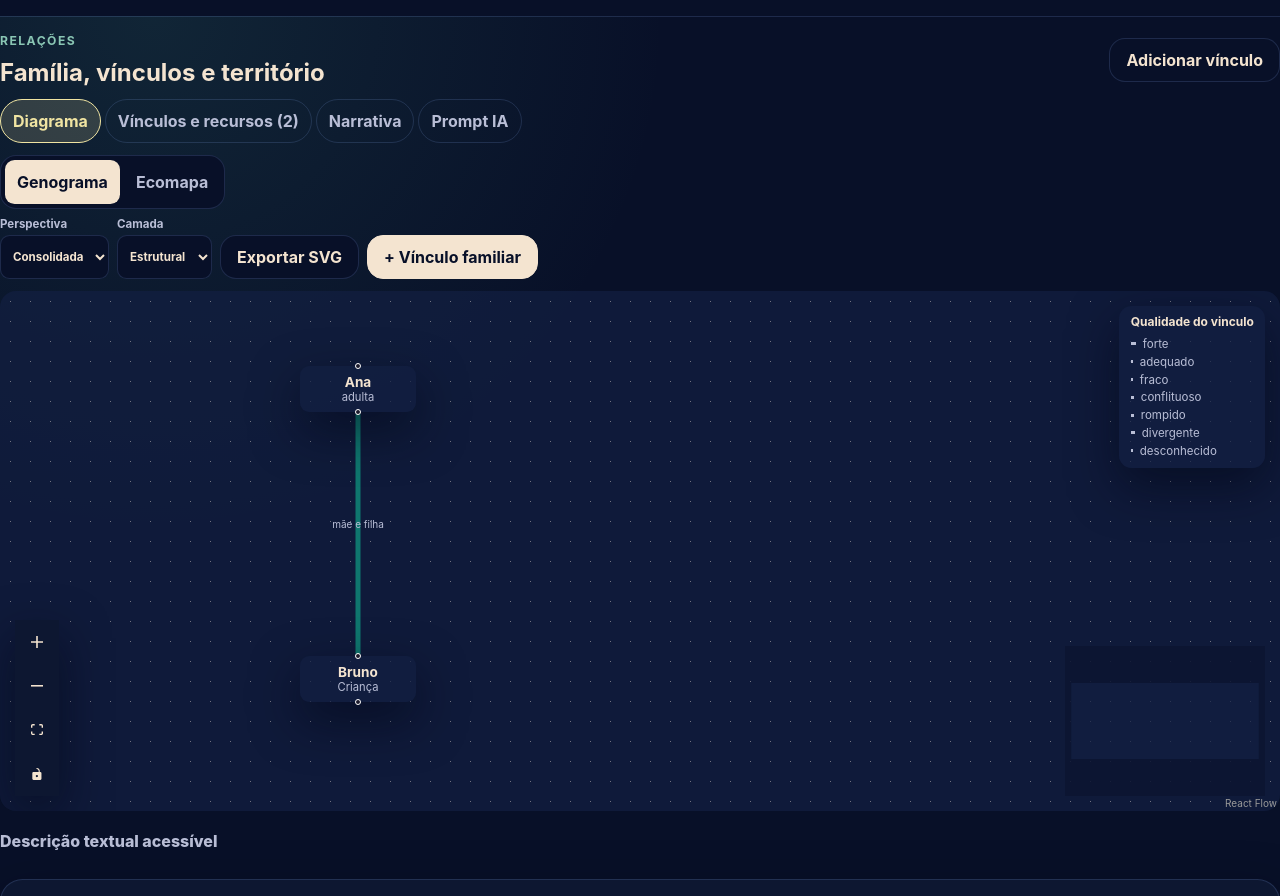
Test: painel de relacoes com camada React Flow › mantem a aba de narrativa com a saida do motor de dominio
This screenshot has width=1280, height=896.
Expected: the text "Ana" is shown, [345, 374, 371, 390]
Click the tab "Narrativa" at [365, 121], box [316, 99, 414, 143]
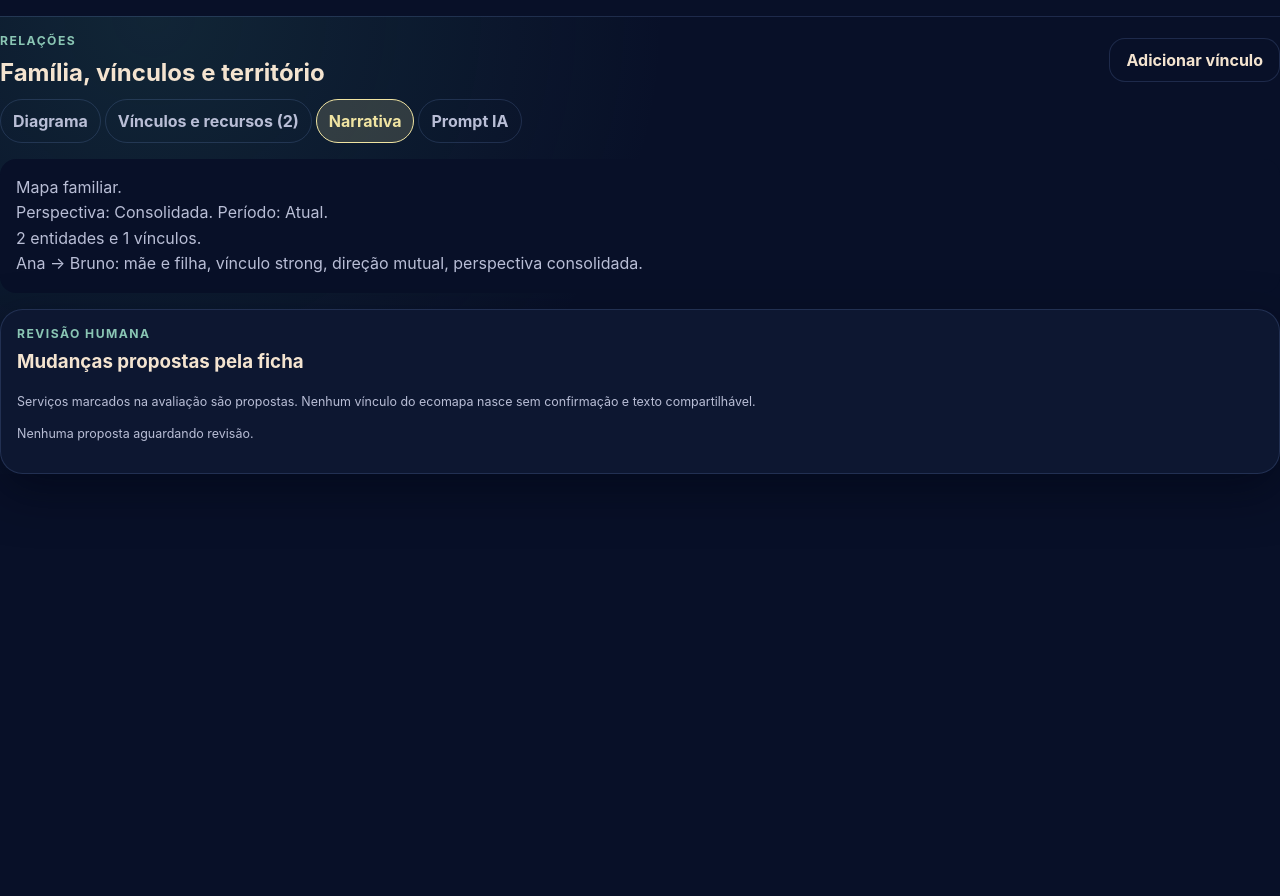
Now the text "Mapa familiar." shows "Perspectiva", box [16, 177, 643, 273]
Now the text "Mapa familiar." shows "mãe e filha", box [16, 177, 643, 273]
